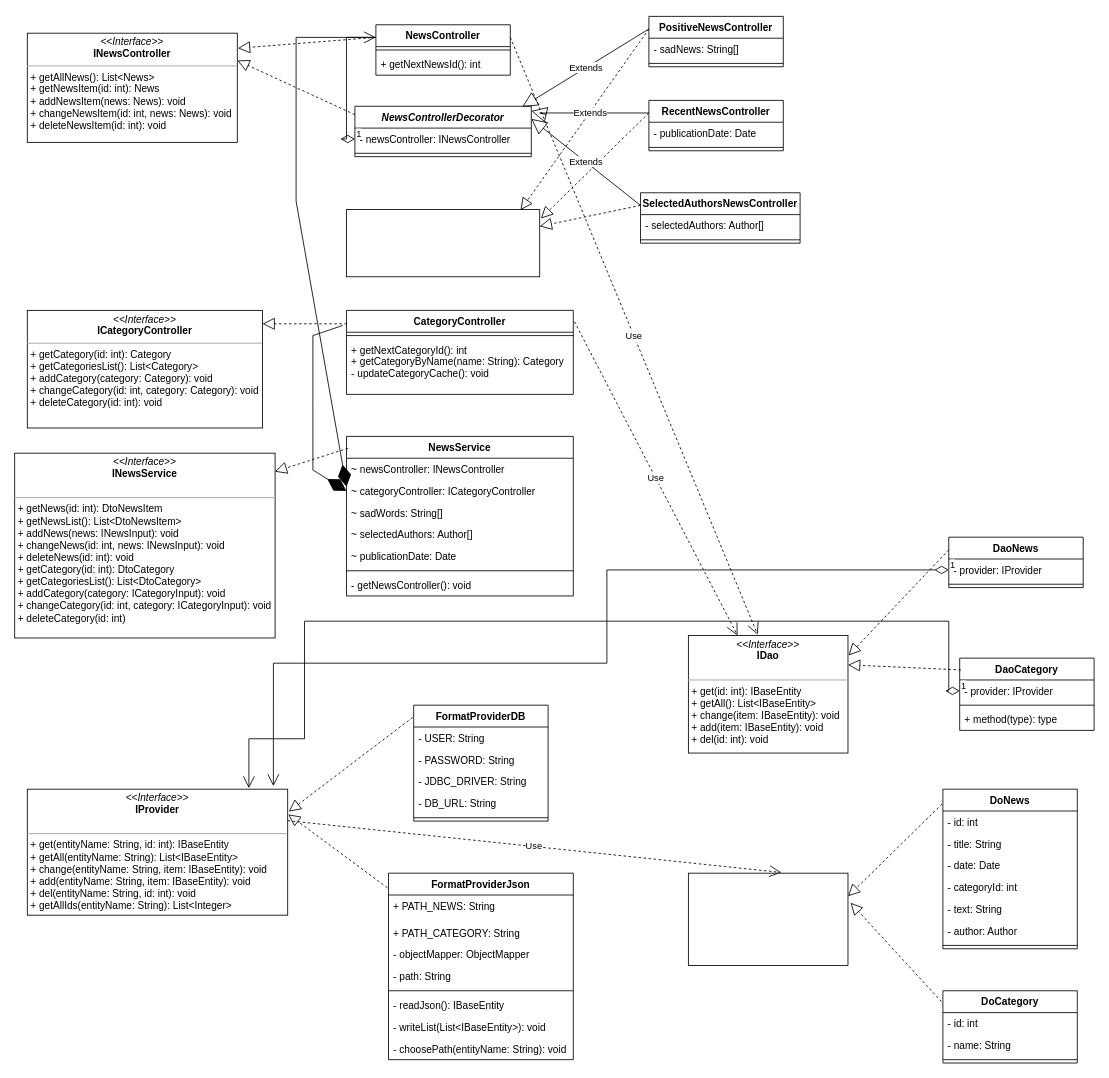
The diagram is 1109 pixels wide and 1078 high, and some of its shapes have lost their labels. Here are the shapes that lost their labels. From the top down, the centre of each, then its label:
At (443,243): "<<Interface>> NewsFilter + filter(allNews: List<News>): List<News>".
At (768,919): "<<Interface>> IBaseEntity + getId(): int + setId(id: int): void".
